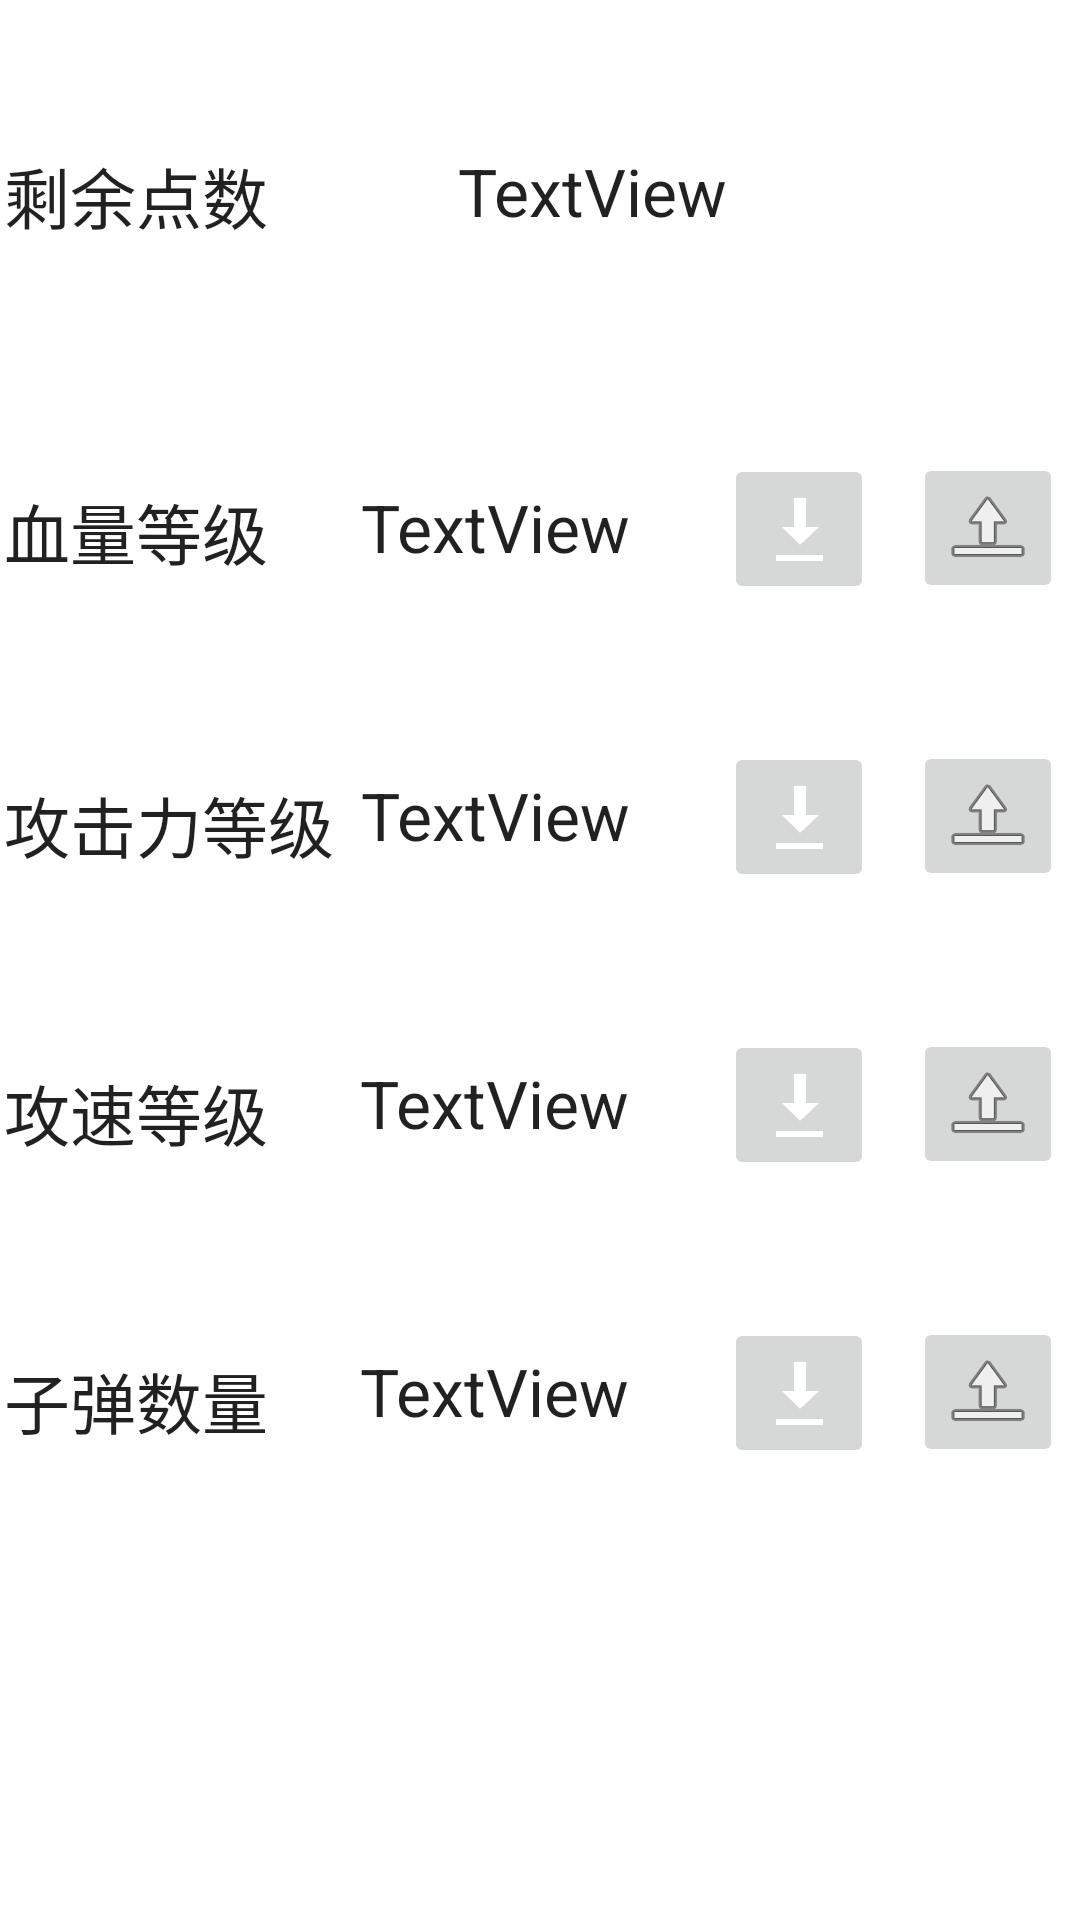

Point at icon controls on the screen. Image size 1080×1920, points as point (x, y).
download: point (799, 529), point (799, 817), point (799, 1105), point (799, 1393)
upload: point (988, 528), point (988, 816), point (988, 1104), point (988, 1392)
